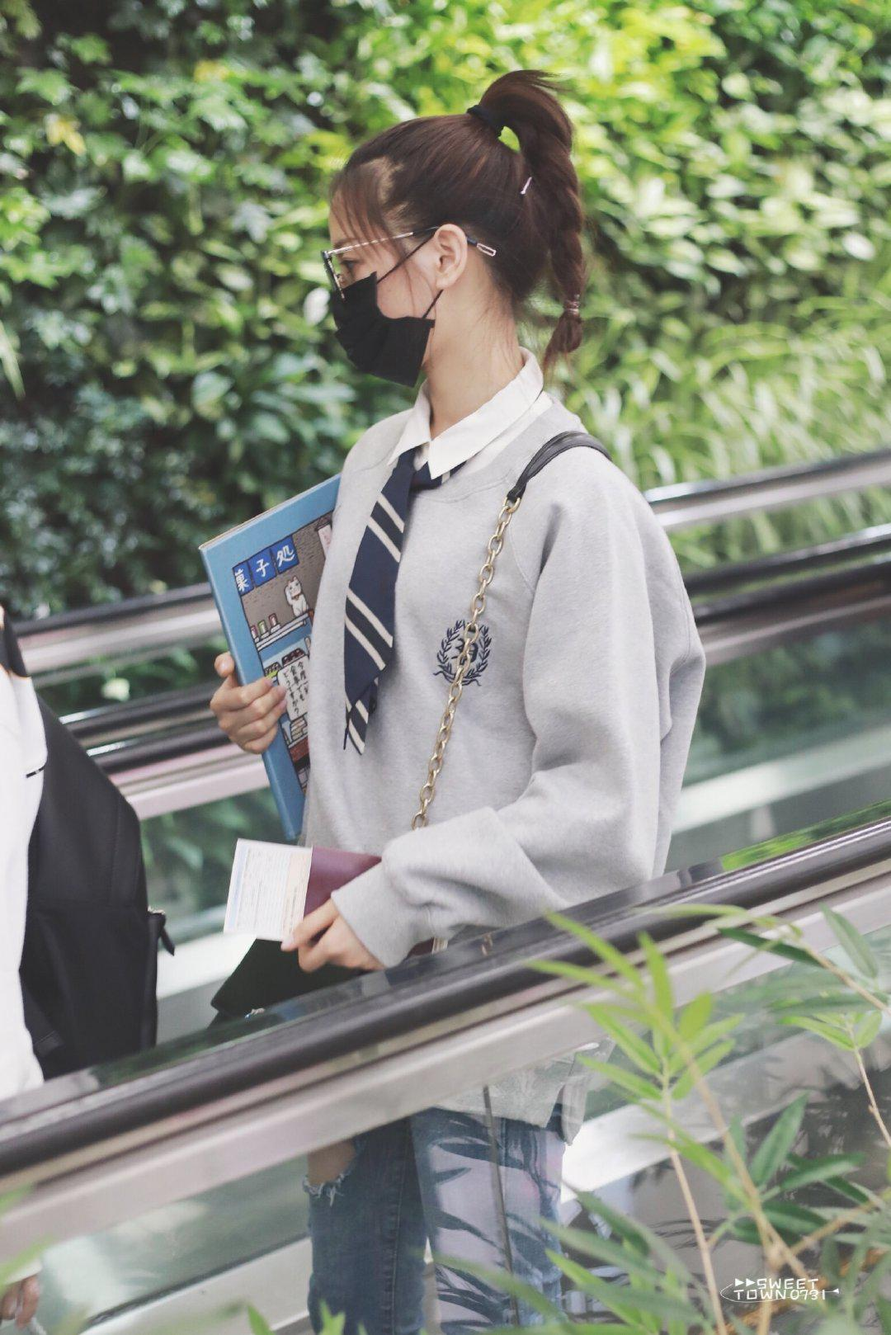OK: (326, 206, 430, 387)
